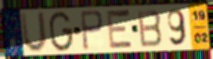9: (166, 8, 187, 47)
B: (136, 9, 164, 49)
E: (106, 8, 135, 51)
G: (48, 10, 74, 54)
P: (79, 9, 105, 52)
U: (19, 11, 48, 55)
